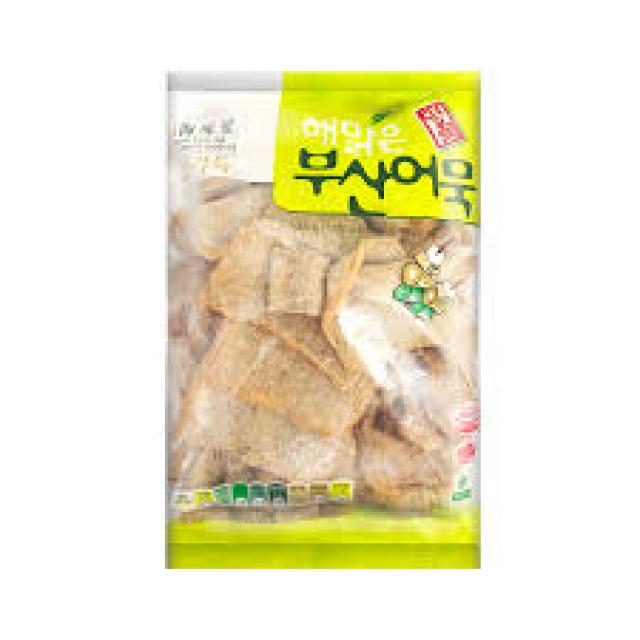fish_cake: (160, 62, 482, 572)
